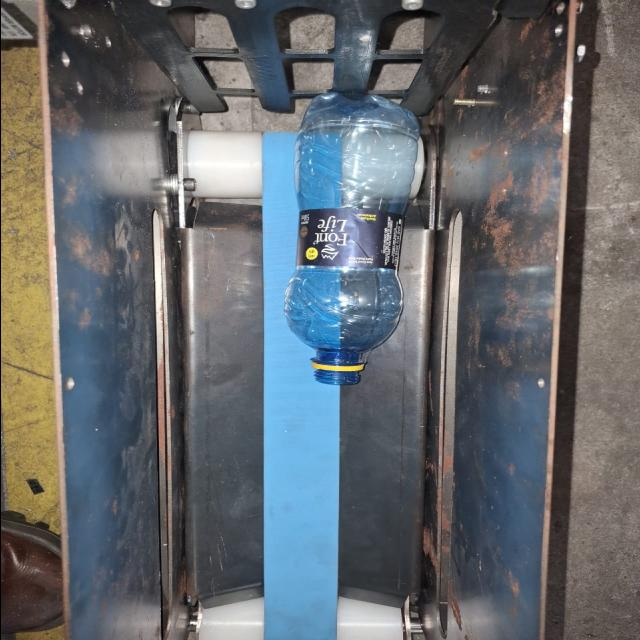bottom: (299, 91, 424, 150)
no_cap: (307, 349, 383, 390)
